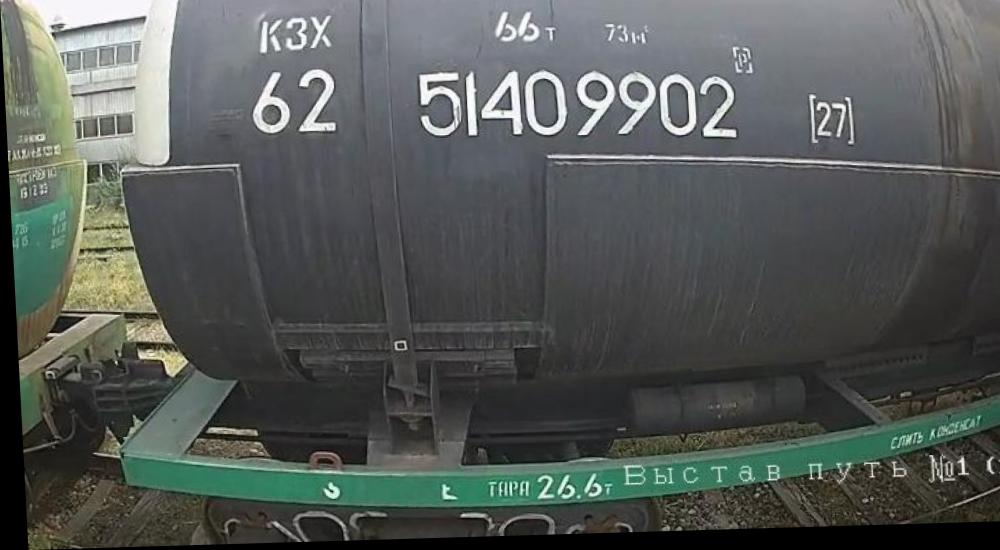Wagon-number: (409, 60, 742, 158)
